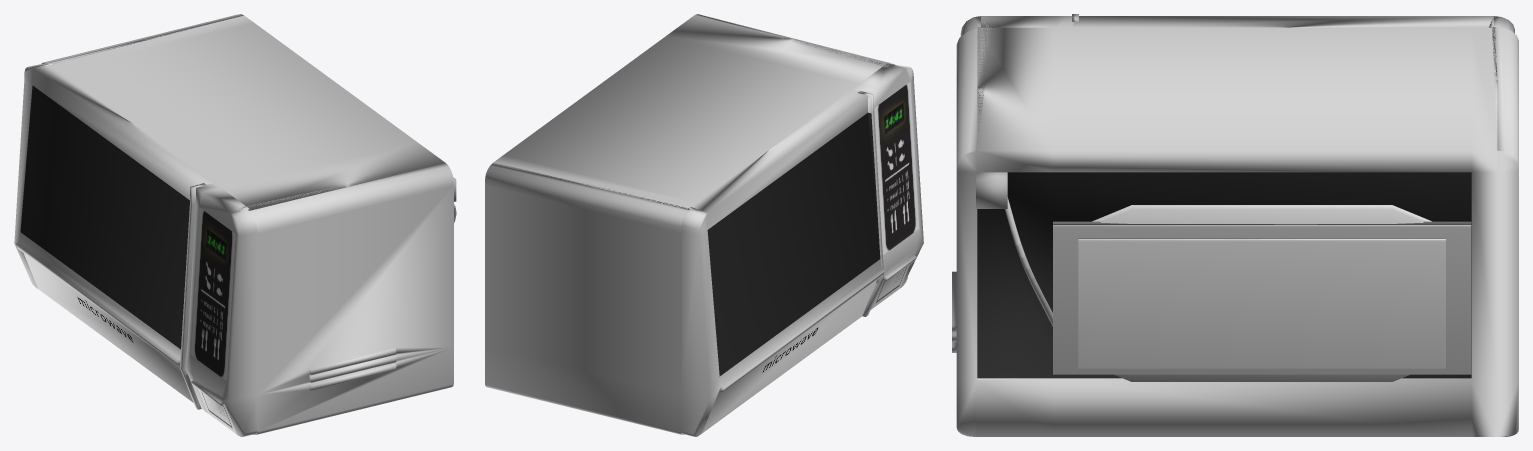
File: microwave.glb
The picture shows the model from 3 angles, left to right: view 1: azimuth 30°, elevation 25°; view 2: azimuth 150°, elevation 25°; view 3: azimuth 270°, elevation 25°; orthographic projection. The views are drawn at different scales.
Visible parts, largest first — view 1: Cube.001, Cube; view 2: Cube.001, Cube; view 3: Cube.001, Cube.005, Cube.002, Cube.004, Cube, Cube.003, Cylinder.
Part boxes in pixels (bbox=[...]): Cube.001: bbox=[41, 14, 453, 434]; Cube: bbox=[14, 63, 257, 436]; Cube.001: bbox=[485, 14, 894, 434]; Cube: bbox=[681, 63, 923, 436]; Cube.001: bbox=[952, 27, 1518, 436]; Cube.005: bbox=[1078, 238, 1445, 368]; Cube.002: bbox=[1053, 221, 1471, 374]; Cube.004: bbox=[1092, 205, 1431, 381]; Cube: bbox=[960, 14, 1514, 36]; Cube.003: bbox=[976, 172, 1007, 208]; Cylinder: bbox=[1005, 197, 1052, 326].
Bounding box in the file's own units: 2.43 × 2 × 3.58.
5 materials, 1 textured.
